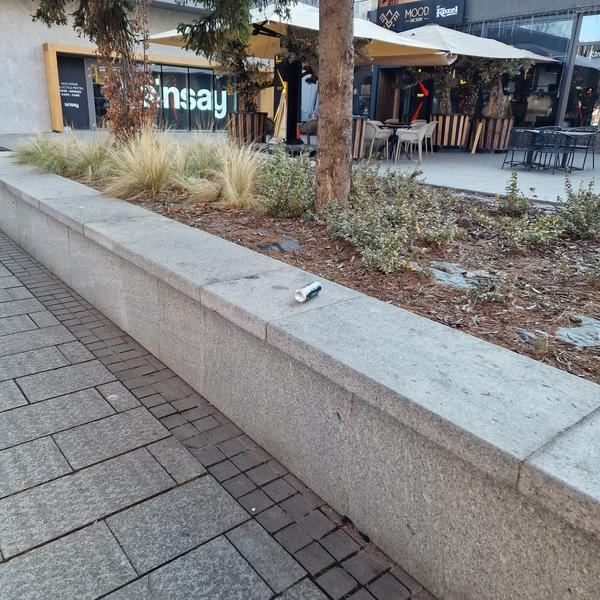can: (291, 276, 324, 307)
